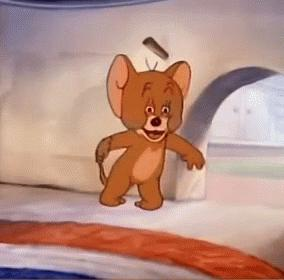jerry: (95, 53, 206, 212)
